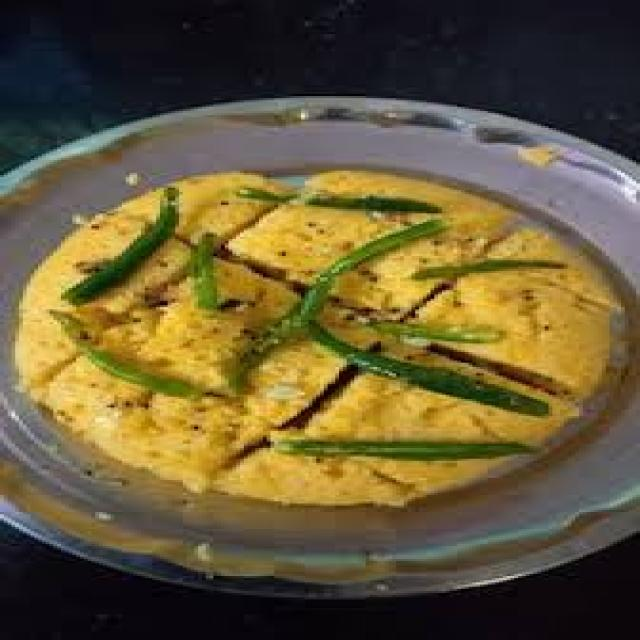DHOKLA: (15, 171, 625, 506)
